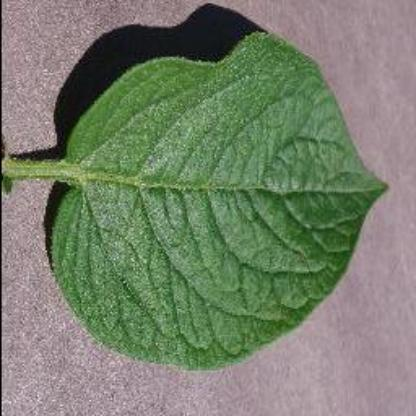Healthy-plant: (8, 29, 390, 371)
